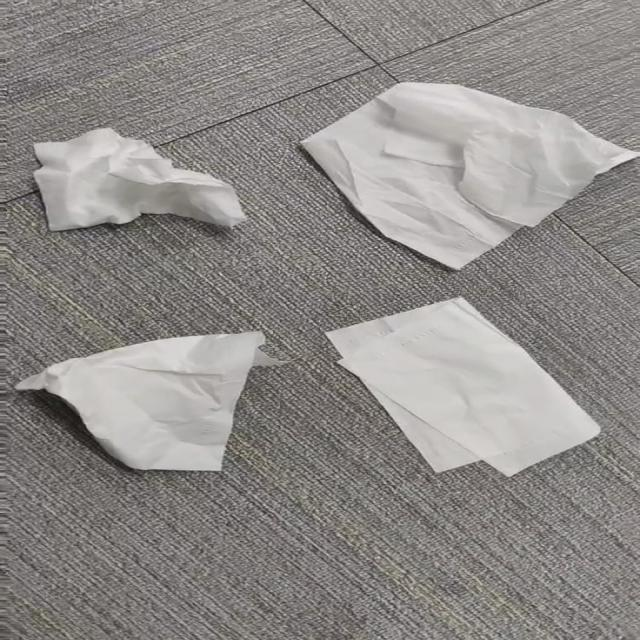paper: (302, 84, 639, 269), (327, 298, 598, 476), (15, 333, 275, 471), (34, 129, 246, 231)
